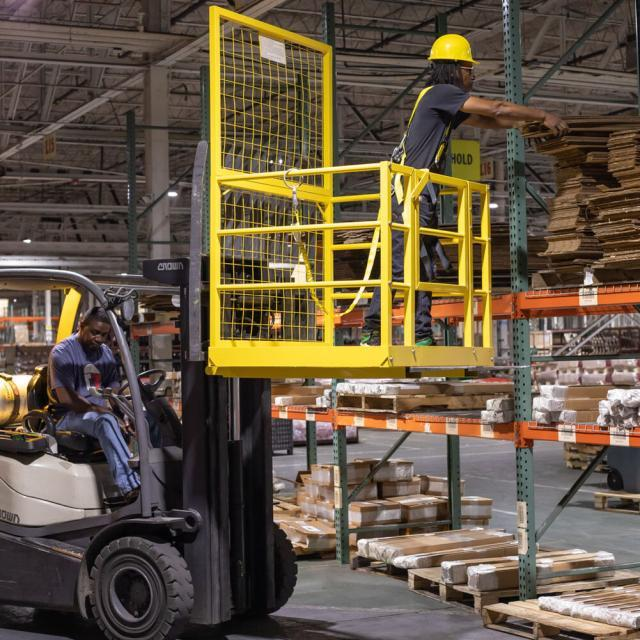driver: (44, 298, 148, 500)
forklift: (7, 114, 350, 626)
person: (380, 30, 562, 321)
